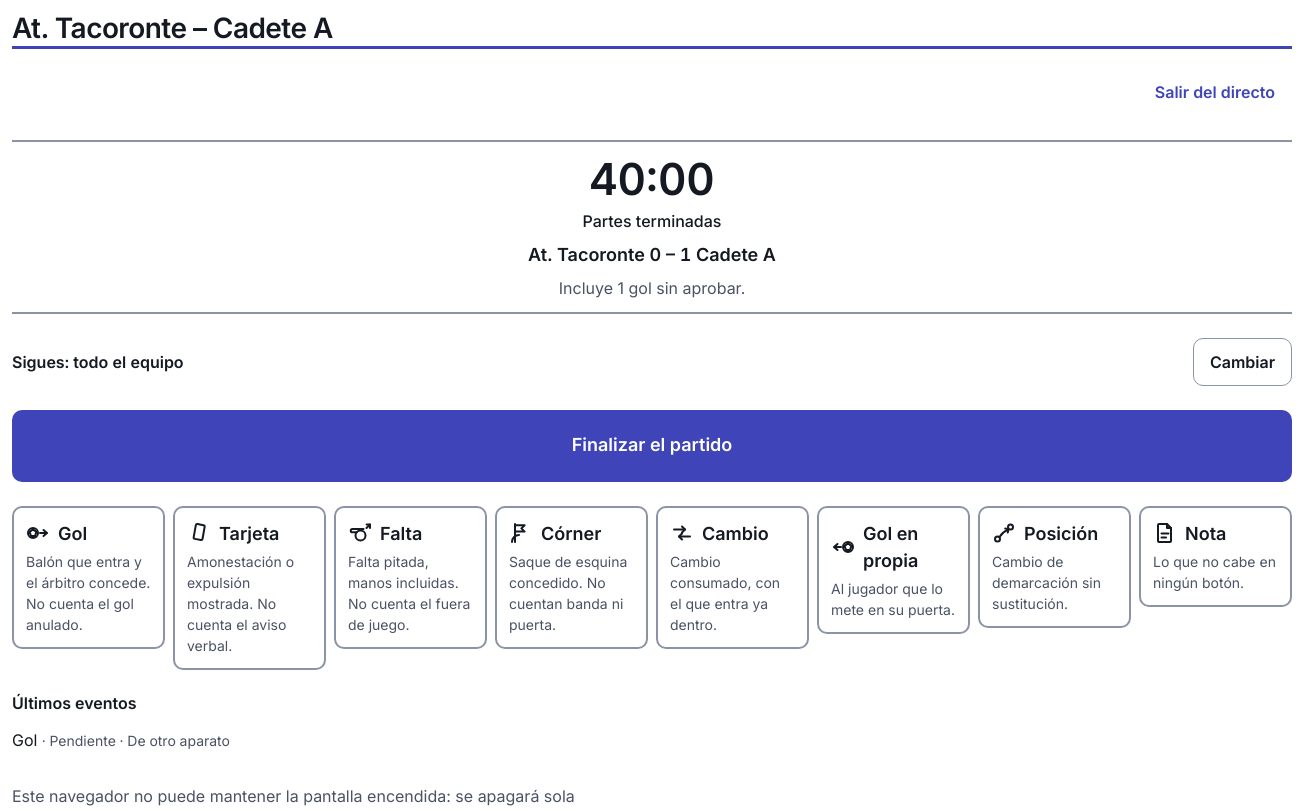
Test: A12 · Directo, esqueleto › con las partes jugadas ofrece finalizar, y al finalizar quita la marca
Click the button "Finalizar el partido".
click(652, 446)  # box [12,410,1292,482]
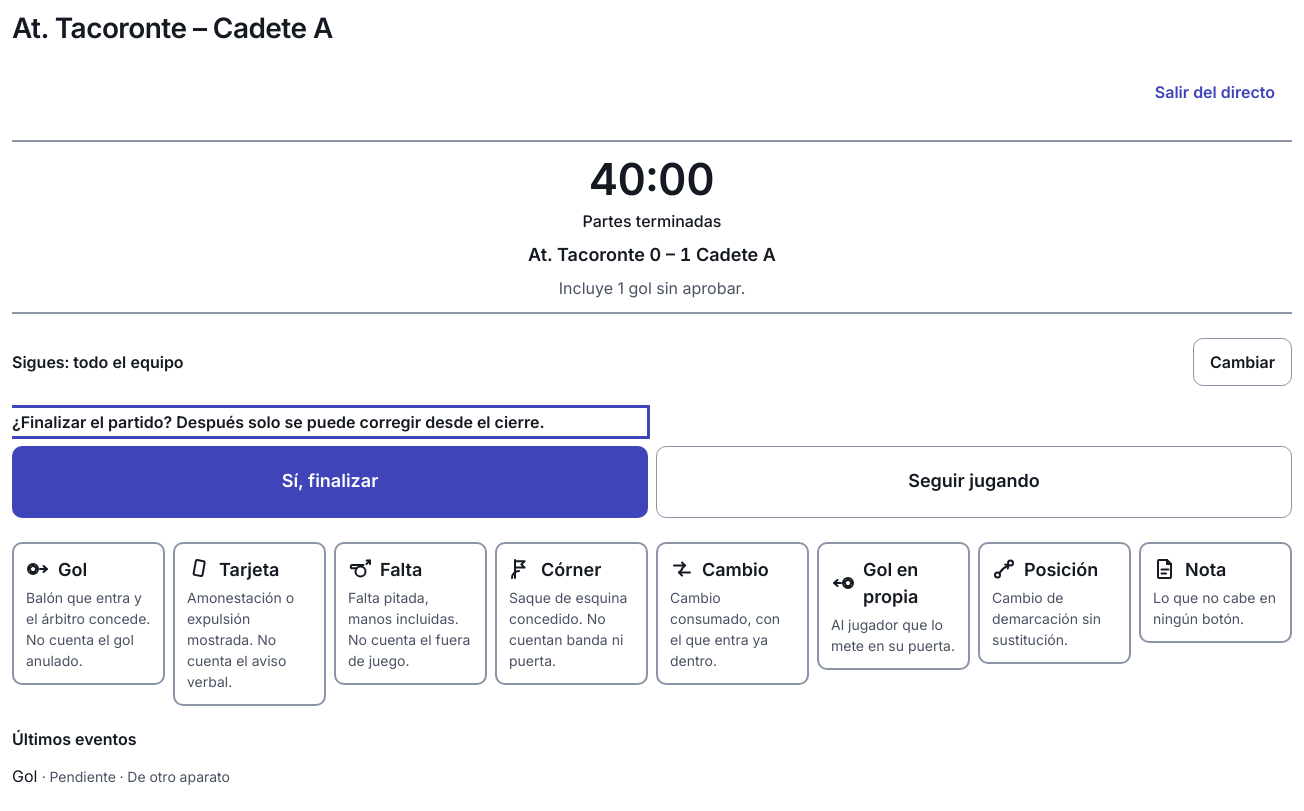
Click the button "Sí, finalizar".
click(330, 482)  # box [12,446,648,518]
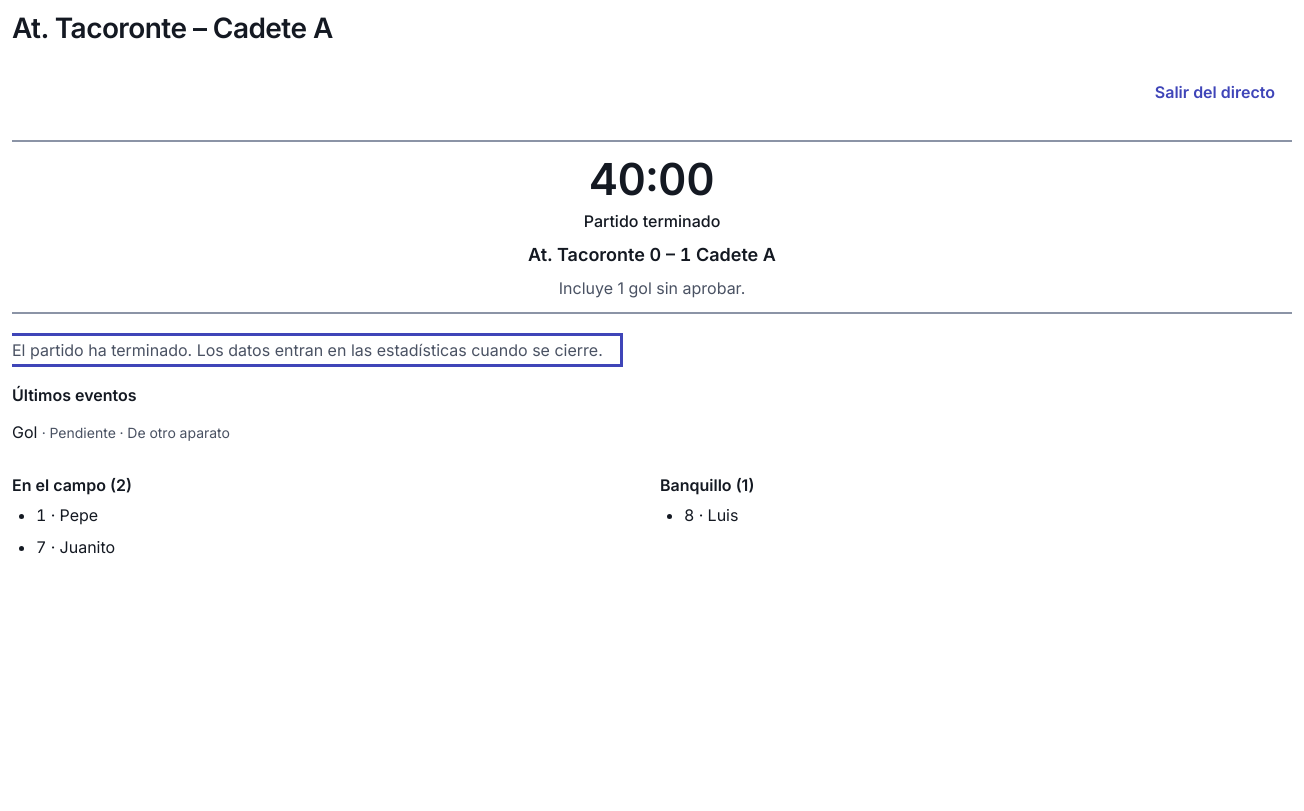
Result: the text "El partido ha terminado" is shown at [12,340,603,360]
